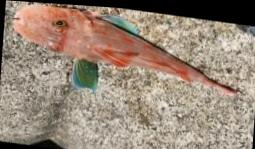fish: (12, 2, 241, 91)
